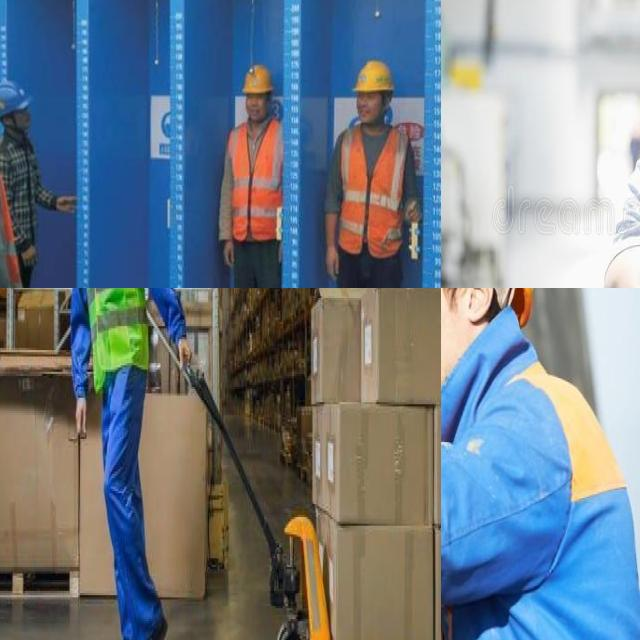No_Ear-Protection: (441, 288, 523, 425)
face_nomask: (349, 93, 387, 124), (238, 90, 269, 128)
hand_glove: (49, 187, 86, 223)
hand_noglove: (171, 311, 196, 385), (322, 240, 350, 288), (73, 389, 91, 459), (217, 234, 236, 275)
head_helmet: (345, 58, 393, 92), (233, 61, 277, 94), (0, 75, 40, 105)
person: (60, 288, 180, 640), (322, 54, 423, 288), (203, 63, 287, 288), (0, 68, 43, 288)
shoes: (128, 603, 169, 640), (102, 628, 140, 640)
vest: (335, 132, 416, 248), (218, 123, 298, 238), (78, 288, 149, 382)
